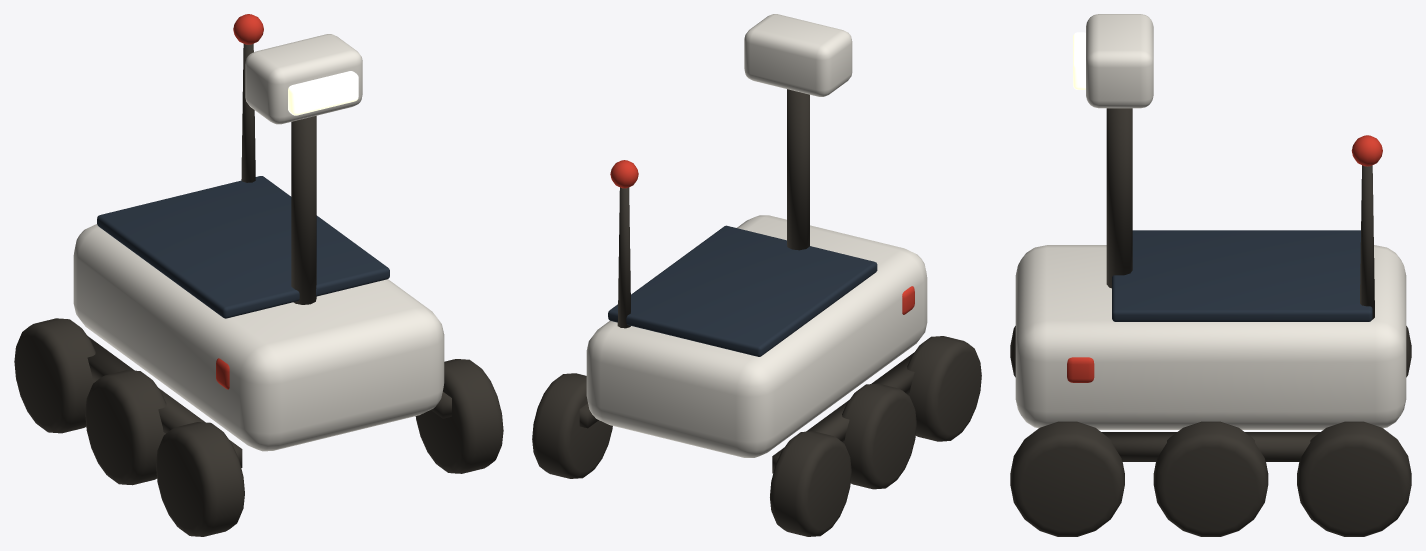
Rendered from rover.glb.
3 renders of one model, left to right at view 1: azimuth 30°, elevation 25°; view 2: azimuth 150°, elevation 25°; view 3: azimuth 270°, elevation 25°, orthographic. The views are drawn at different scales.
Parts seen in each view (by area): view 1: Body, Panel, Wheel_0, Wheel_2, Wheel_1, Wheel_3, Head, Mast, Lamp, Arm_L, Antenna, AntennaTip; view 2: Body, Panel, Head, Wheel_2, Wheel_0, Wheel_1, Wheel_5, Mast, Antenna, Arm_L, AntennaTip; view 3: Body, Panel, Wheel_3, Wheel_5, Wheel_4, Head, Mast, Arm_R, Antenna, AntennaTip, Lamp, Stripe.
Part boxes in pixels (x1,y1,x2,y2): Body: (73,224,444,451); Panel: (97,176,389,318); Wheel_0: (156,422,244,536); Wheel_2: (14,318,95,433); Wheel_1: (85,370,166,485); Wheel_3: (415,359,503,473); Head: (245,34,362,124); Mast: (291,116,316,304); Lamp: (288,71,358,115); Arm_L: (87,336,242,467); Antenna: (241,44,255,182); AntennaTip: (233,14,263,44); Body: (586,215,927,457); Panel: (608,225,877,356); Head: (744,14,852,96); Wheel_2: (770,431,851,536); Wheel_0: (907,336,981,441); Wheel_1: (842,383,916,489); Wheel_5: (532,373,612,478); Mast: (787,89,809,250); Antenna: (617,187,630,328); Arm_L: (772,352,914,473); AntennaTip: (610,160,638,188); Body: (1015,245,1406,429); Panel: (1112,230,1372,321); Wheel_3: (1010,421,1124,536); Wheel_5: (1297,421,1411,536); Wheel_4: (1153,421,1268,536); Head: (1086,14,1153,108); Mast: (1106,108,1132,288); Arm_R: (1101,432,1320,461); Antenna: (1360,165,1374,319); AntennaTip: (1351,135,1382,166); Lamp: (1073,32,1085,89); Stripe: (1067,357,1094,382).
Size of the model in its own units: 0.134 by 0.1837 by 0.154.
